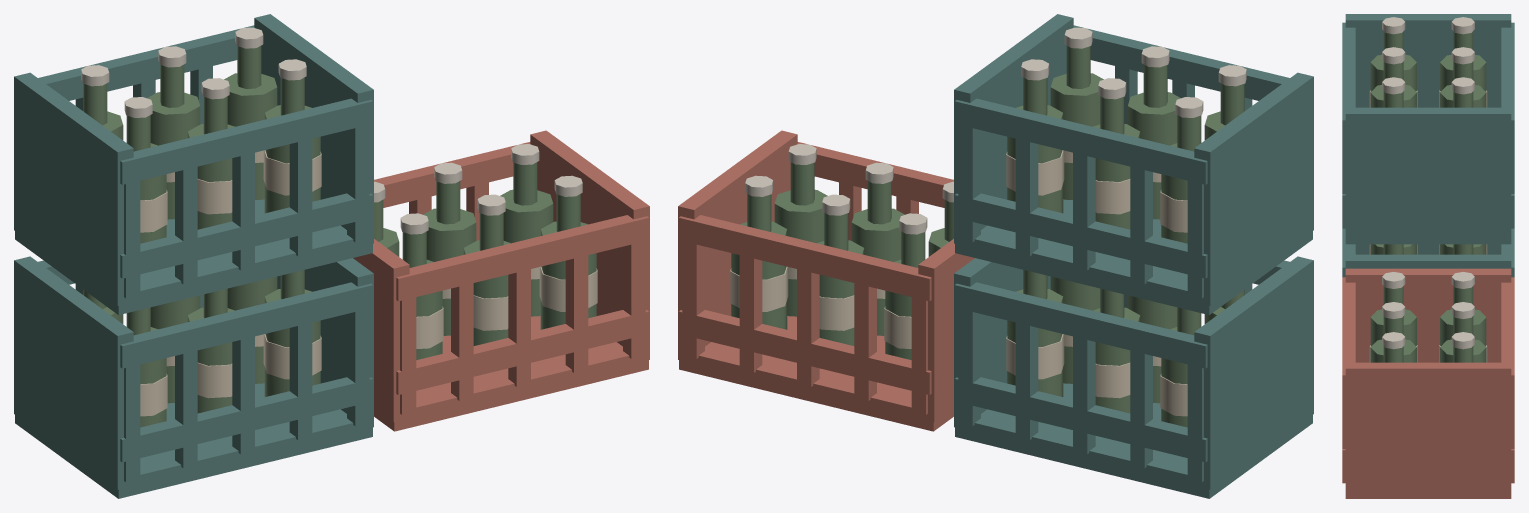
Rendered from komachi-drink-crates.glb.
3 views of the same model, side by side, from view 1: azimuth 30°, elevation 25°; view 2: azimuth 150°, elevation 25°; view 3: azimuth 270°, elevation 25° (orthographic). The views are drawn at different scales.
Parts seen in each view (by area): view 1: Drink_Crates; view 2: Drink_Crates; view 3: Drink_Crates.
Boxes of the visible parts, bbox=[...] form: Drink_Crates: bbox=[14, 14, 649, 498]; Drink_Crates: bbox=[678, 14, 1313, 498]; Drink_Crates: bbox=[1342, 14, 1514, 498].
Bounding box in the file's own units: 0.297 × 0.193 × 0.104.
